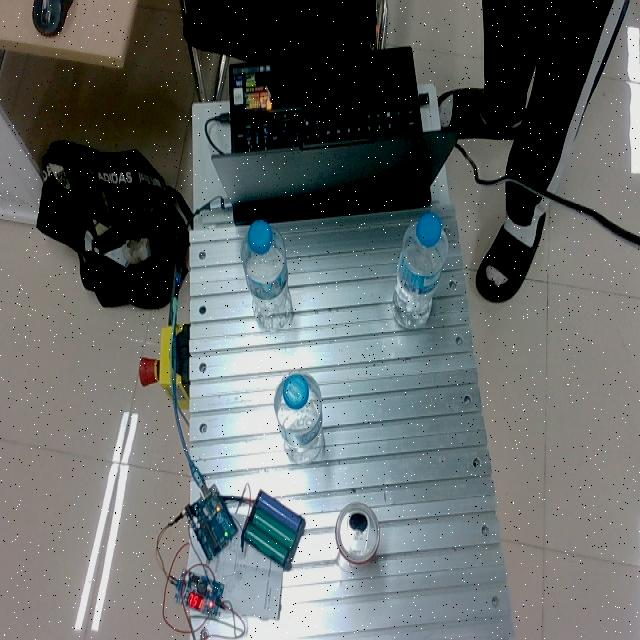coca: (335, 501, 379, 568)
lavie: (392, 213, 448, 329), (241, 221, 292, 332), (274, 371, 324, 464)
